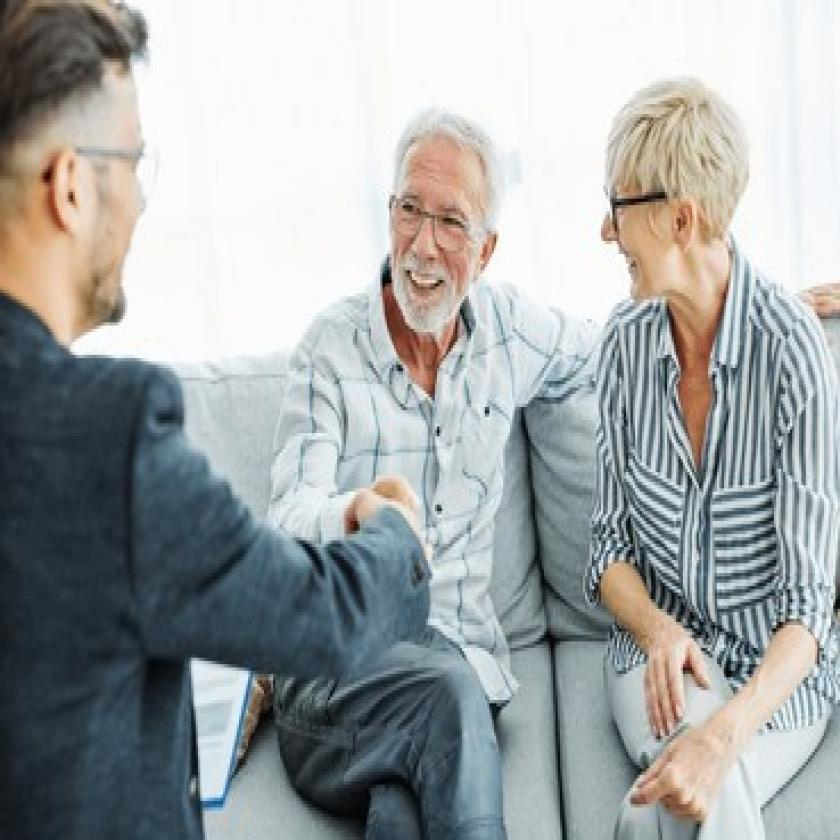Sin_casco: (0, 0, 166, 358), (588, 64, 756, 306), (383, 94, 509, 352)
